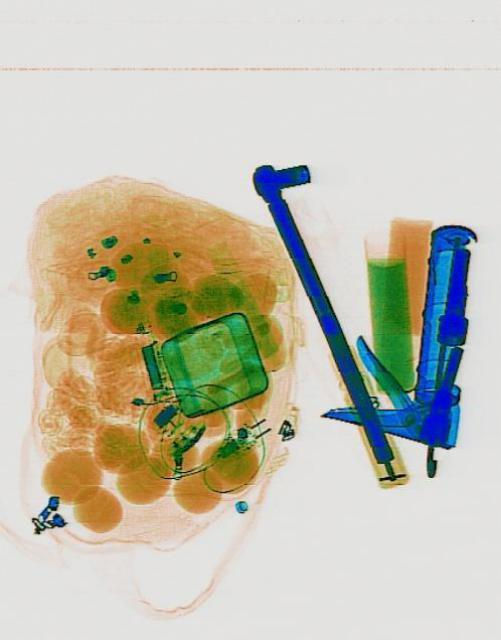Knife: (317, 210, 474, 448)
